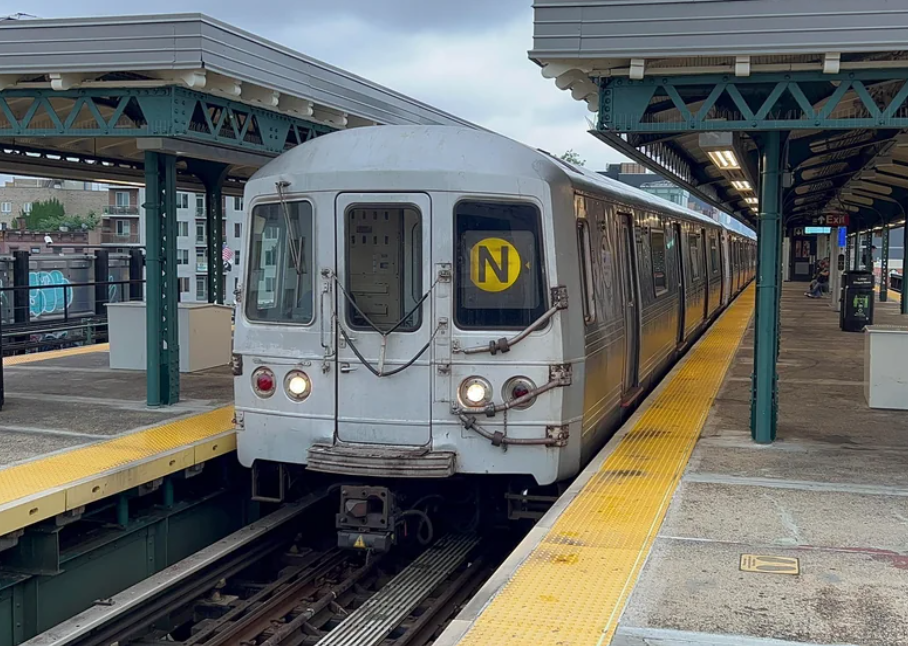train: (233, 125, 584, 488)
